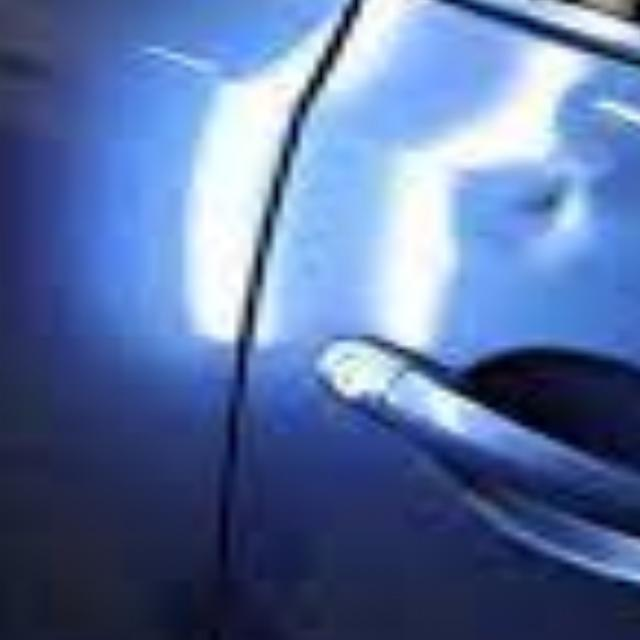dents: (474, 179, 633, 279)
